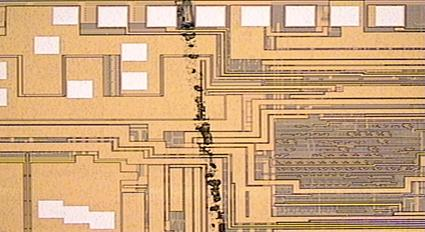SCRATCH: (170, 1, 233, 232)
